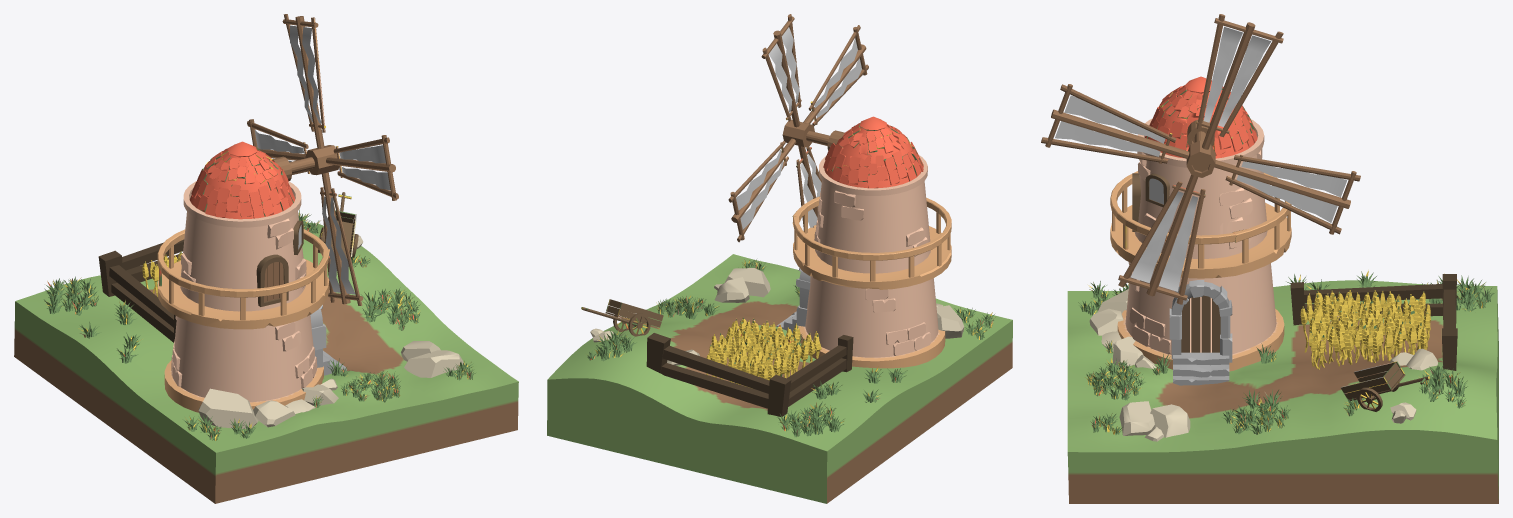
File: windmill diorama.fbx
The picture shows the model from 3 angles, left to right: view 1: azimuth 30°, elevation 25°; view 2: azimuth 150°, elevation 25°; view 3: azimuth 270°, elevation 25°; orthographic projection. The views are drawn at different scales.
Visible parts, largest first — view 1: Plane; view 2: Plane; view 3: Plane.
Part boxes in pixels (bbox=[...]): Plane: bbox=[14, 14, 518, 503]; Plane: bbox=[547, 14, 1012, 503]; Plane: bbox=[1041, 14, 1498, 503].
Bounding box in the file's own units: 201 × 248 × 245.
Materials: 1 (1 with a texture image).
